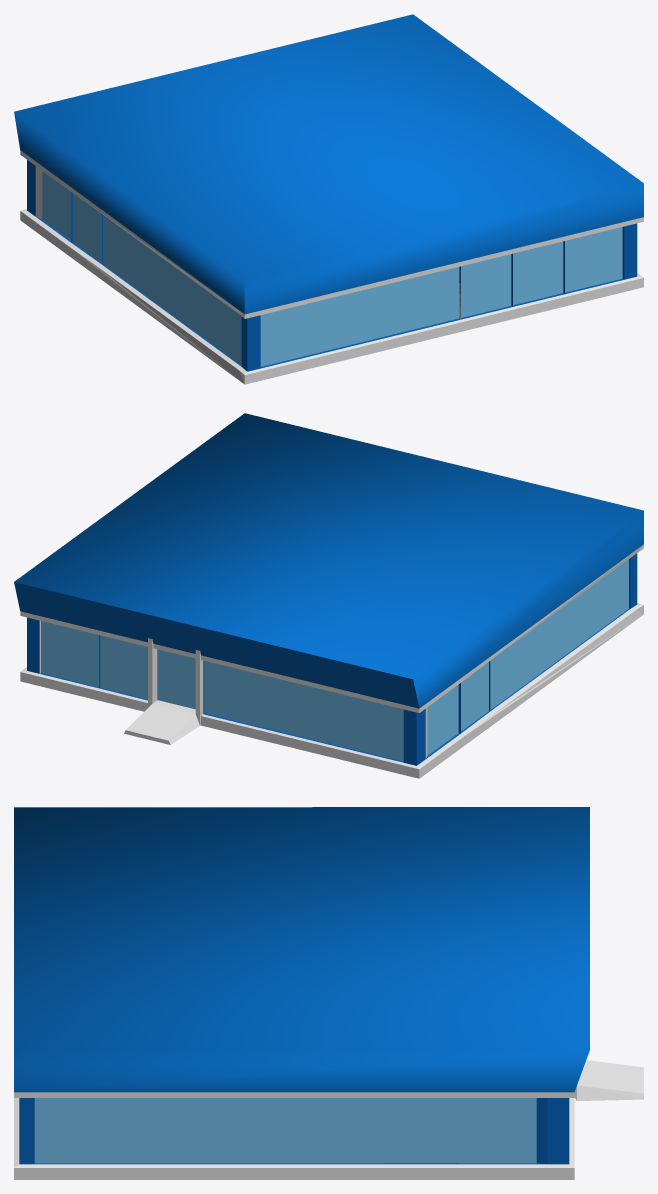
Rendered from Shop8x8x2Blue.fbx.
3 views of the same model, one above another, from view 1: azimuth 30°, elevation 25°; view 2: azimuth 150°, elevation 25°; view 3: azimuth 270°, elevation 25° (orthographic). The views are drawn at different scales.
Parts seen in each view (by area): view 1: Shop.001; view 2: Shop.001; view 3: Shop.001.
Part boxes in pixels (left/top/right/bottom): Shop.001: left=14, top=14, right=643, bottom=384; Shop.001: left=14, top=413, right=643, bottom=778; Shop.001: left=14, top=807, right=643, bottom=1179.
Bounding box in the file's own units: 7.96 × 1.98 × 8.72.
Materials: 1 (1 with a texture image).
